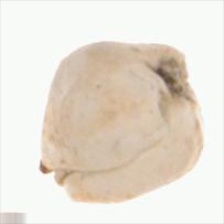L3: (36, 158, 75, 198)
L4: (39, 42, 204, 203)
